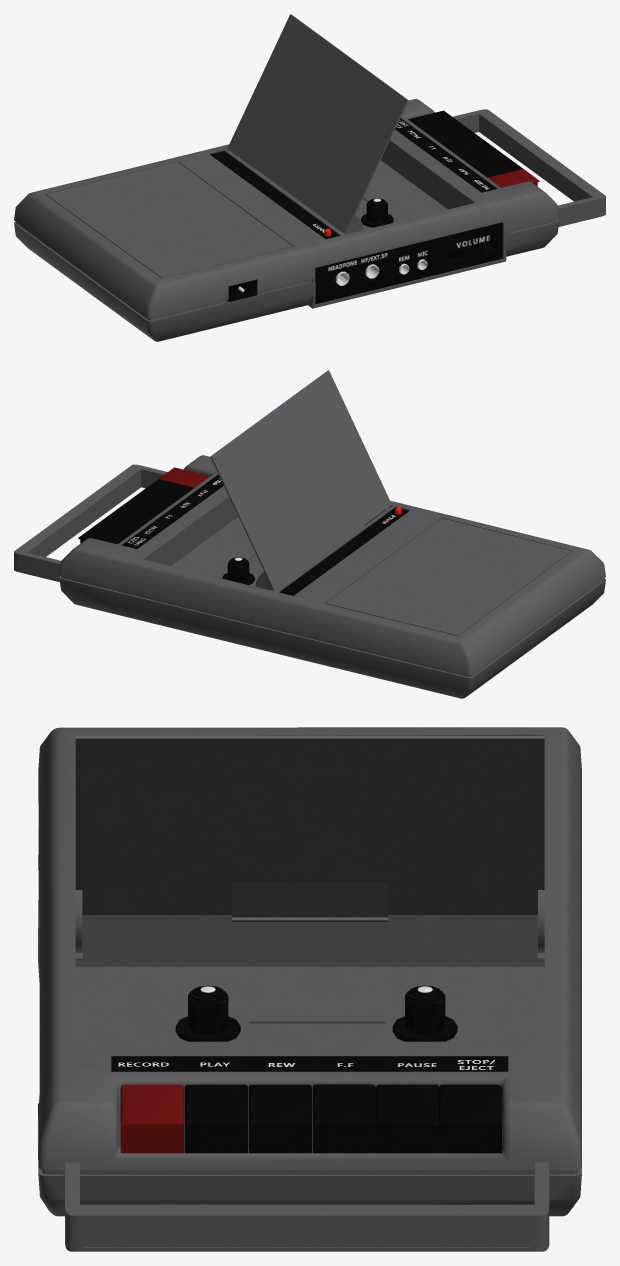
3 views of the same model, one above another, from view 1: azimuth 30°, elevation 25°; view 2: azimuth 150°, elevation 25°; view 3: azimuth 270°, elevation 25° (orthographic). The views are drawn at different scales.
Visible parts, largest first — view 1: Cassete_player_Body__LOD0, Cassete_player_Top_LOD0, Button2_LOD0, Button3_LOD0, Button4_LOD0, Button5_LOD0, Button6_LOD0, Button1_LOD0; view 2: Cassete_player_Body__LOD0, Cassete_player_Top_LOD0, Button1_LOD0, Button3_LOD0, Button2_LOD0, Button4_LOD0, Button5_LOD0, Button6_LOD0; view 3: Cassete_player_Body__LOD0, Cassete_player_Top_LOD0, Button3_LOD0, Button4_LOD0, Button2_LOD0, Button1_LOD0, Button5_LOD0, Button6_LOD0.
Part boxes in pixels (bbox=[...]): Cassete_player_Body__LOD0: bbox=[14, 99, 605, 341]; Cassete_player_Top_LOD0: bbox=[227, 14, 408, 234]; Button2_LOD0: bbox=[472, 157, 522, 177]; Button3_LOD0: bbox=[455, 145, 506, 165]; Button4_LOD0: bbox=[439, 133, 490, 153]; Button5_LOD0: bbox=[424, 122, 474, 142]; Button6_LOD0: bbox=[408, 110, 458, 130]; Button1_LOD0: bbox=[488, 169, 539, 187]; Cassete_player_Body__LOD0: bbox=[14, 455, 605, 698]; Cassete_player_Top_LOD0: bbox=[210, 370, 391, 590]; Button1_LOD0: bbox=[159, 467, 210, 487]; Button3_LOD0: bbox=[127, 491, 177, 511]; Button2_LOD0: bbox=[142, 479, 193, 499]; Button4_LOD0: bbox=[111, 502, 161, 522]; Button5_LOD0: bbox=[95, 514, 146, 534]; Button6_LOD0: bbox=[78, 526, 130, 543]; Cassete_player_Body__LOD0: bbox=[38, 727, 581, 1251]; Cassete_player_Top_LOD0: bbox=[75, 736, 544, 952]; Button3_LOD0: bbox=[248, 1084, 311, 1153]; Button4_LOD0: bbox=[312, 1084, 375, 1153]; Button2_LOD0: bbox=[184, 1084, 247, 1153]; Button1_LOD0: bbox=[120, 1084, 183, 1153]; Button5_LOD0: bbox=[376, 1084, 439, 1153]; Button6_LOD0: bbox=[439, 1084, 502, 1153].
Size of the model in its own units: 3.65 by 1.32 by 1.84.
Materials: 2 (1 with a texture image).
